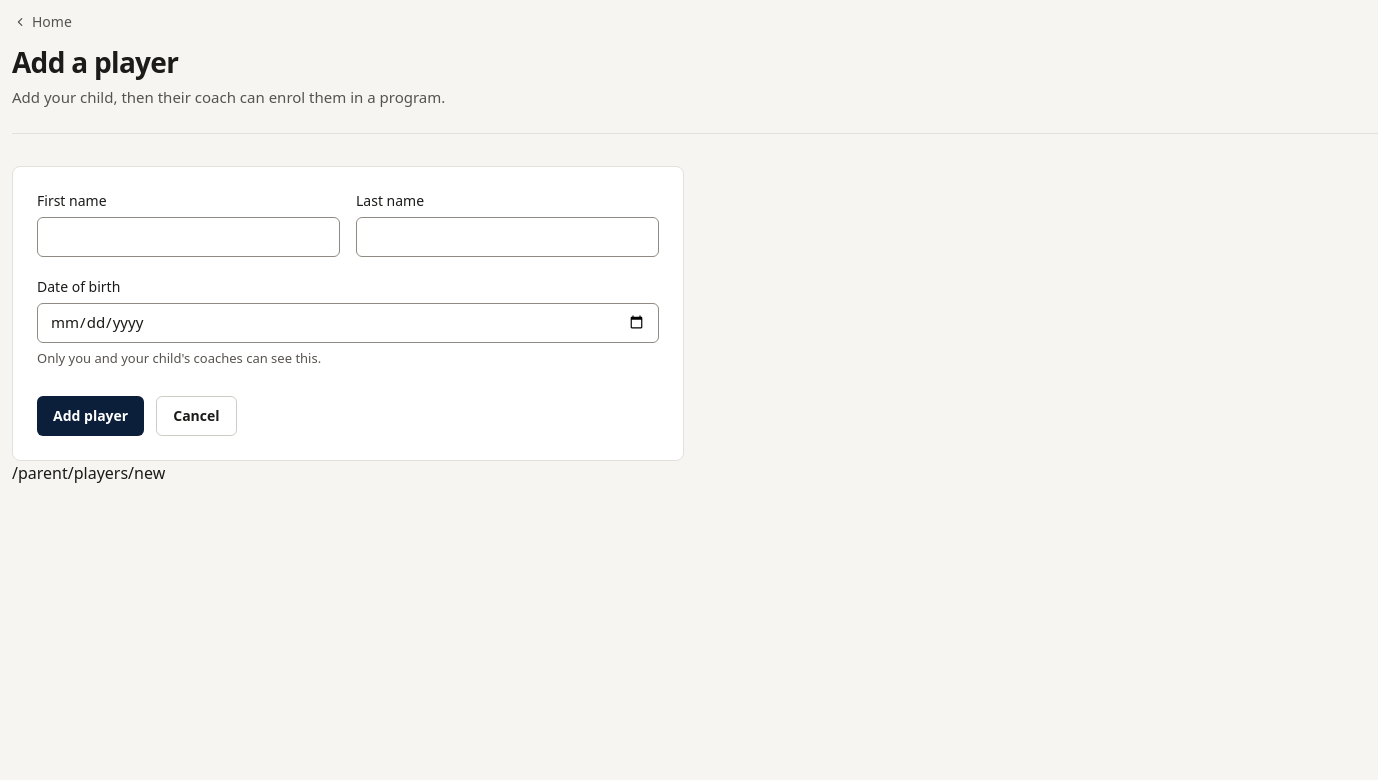
Test: parent player pages › asks for every field before sending
Click the button "Add player".
click(91, 416)  # box [37, 396, 144, 436]
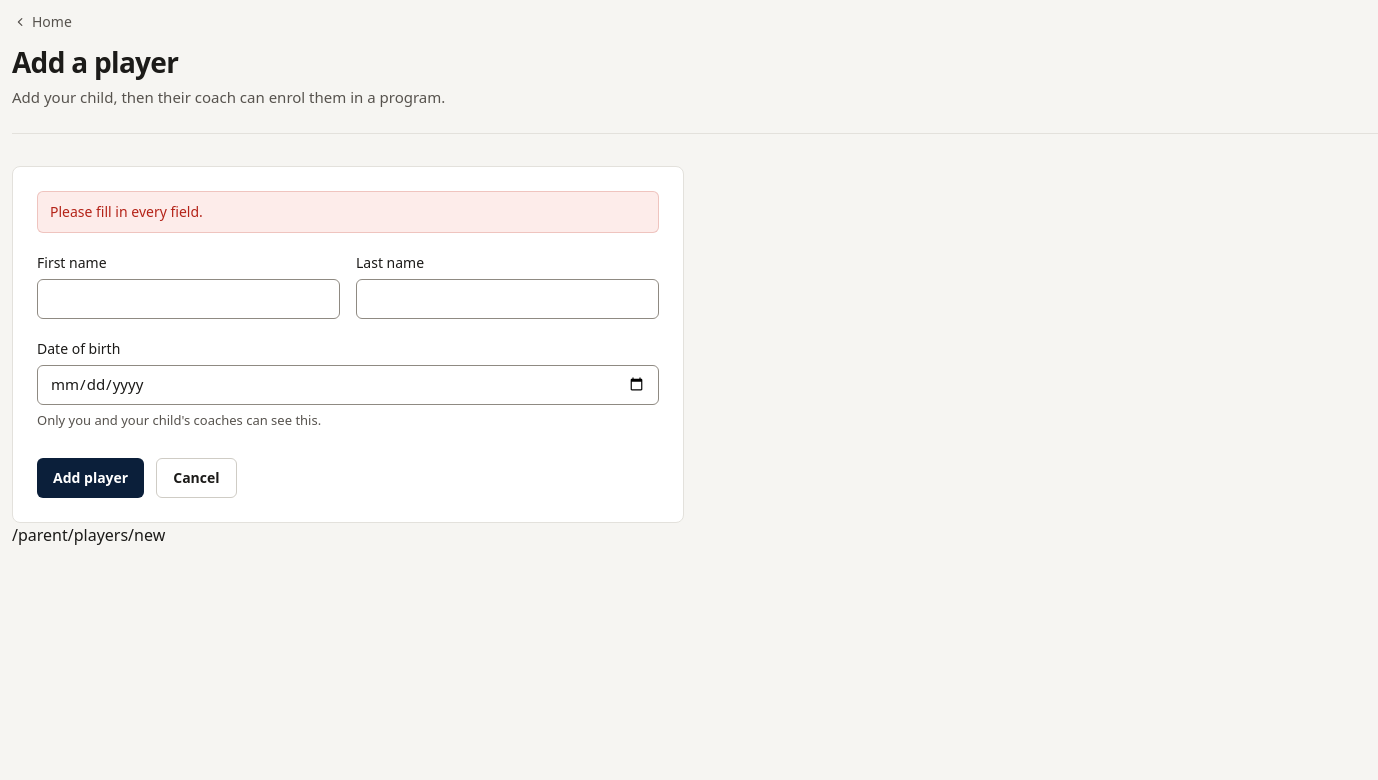
Check: the message reads "Please fill in every field.", box [50, 202, 203, 220]
